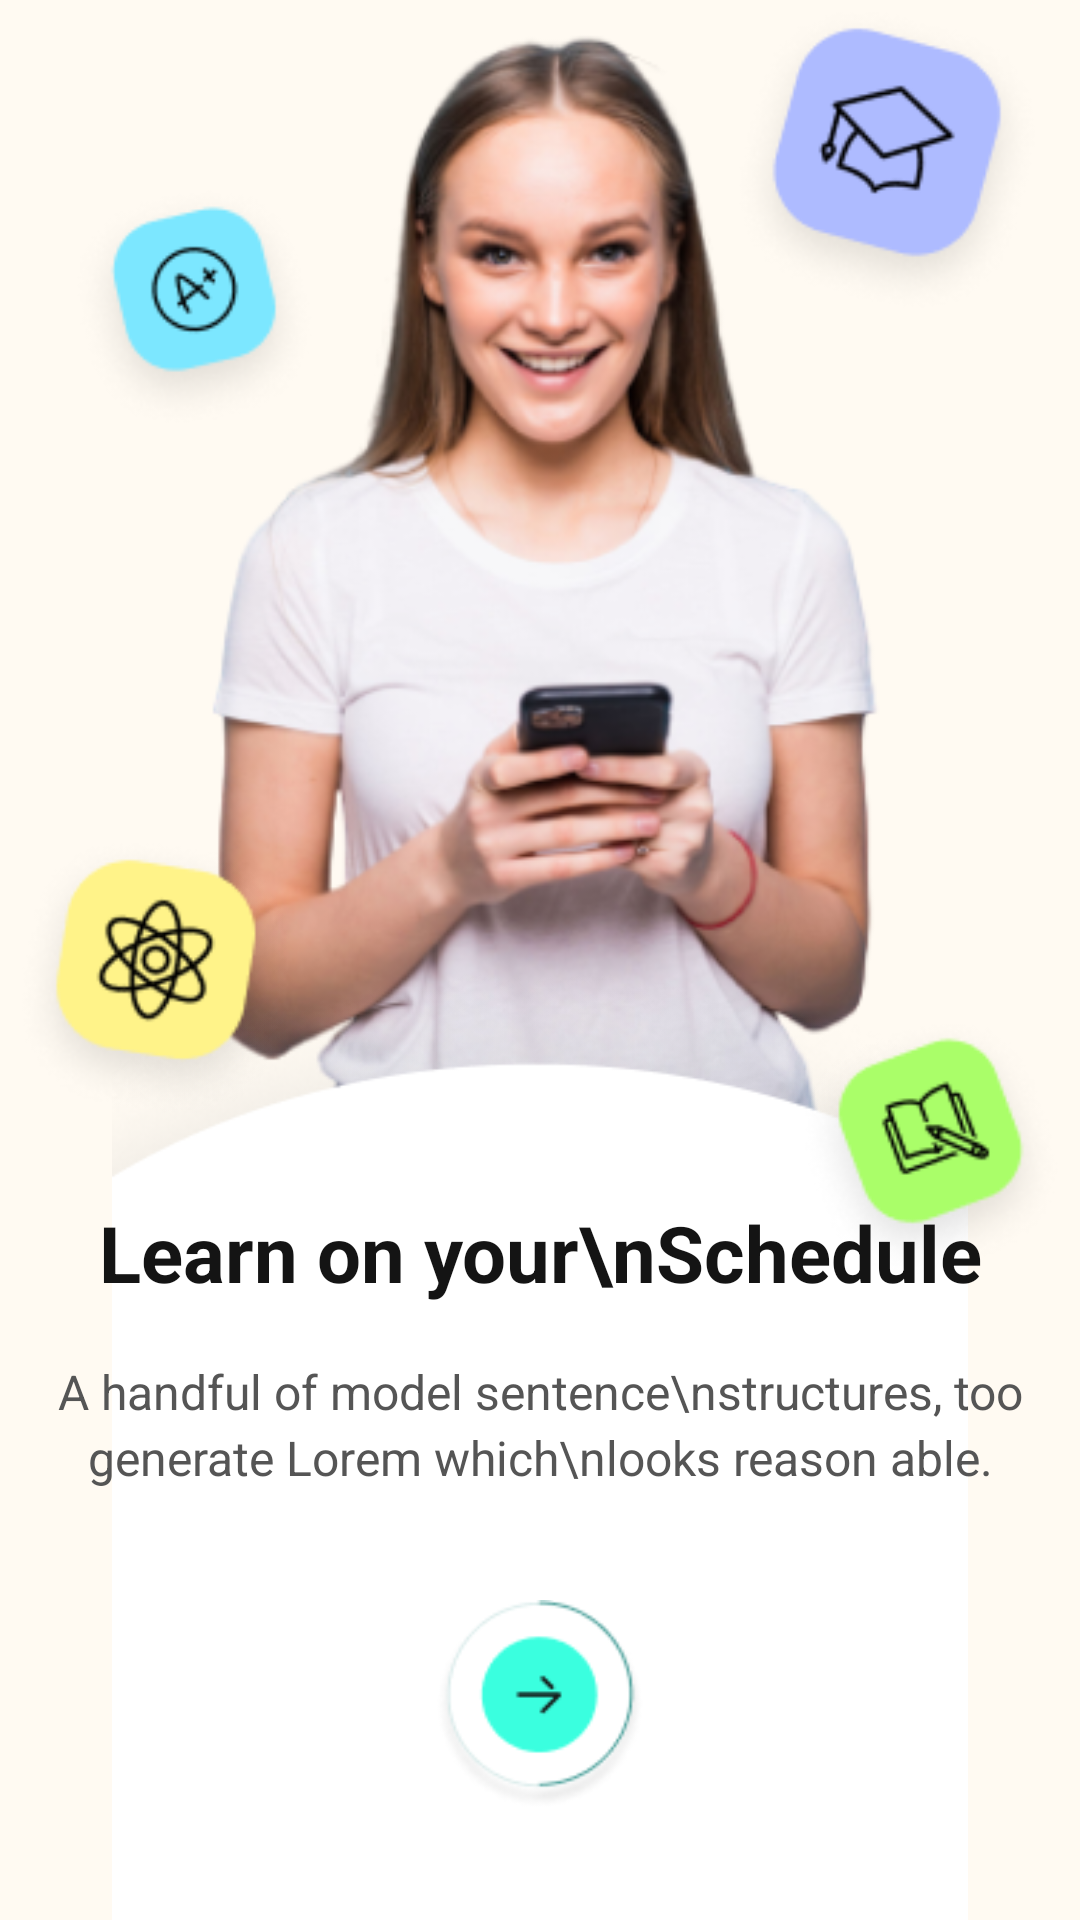

Point at icon controls on the screen. Image size 1080px x 1920px, points as [x,y].
introbtn: [541,1693]
